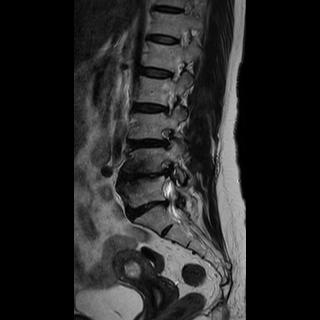RFS1: (155, 121, 178, 152)
